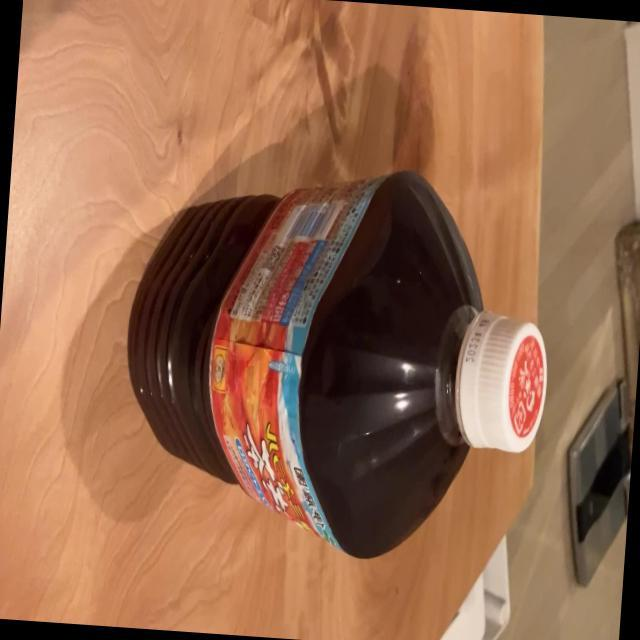good: (114, 149, 560, 577)
